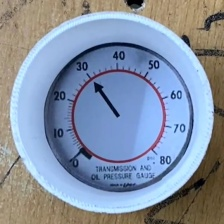gauge: (45, 44, 193, 191)
